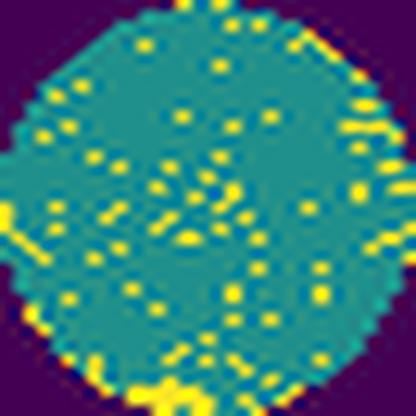Edge-Loc: (120, 369, 220, 416), (83, 350, 119, 401)
